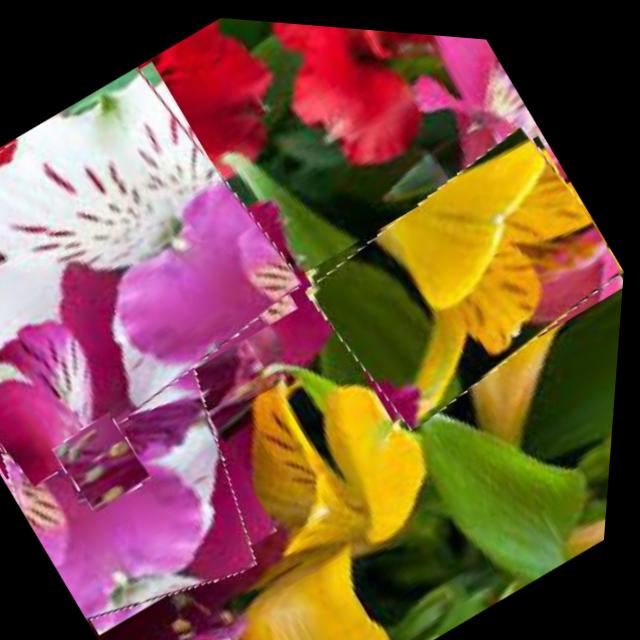Flower: (0, 40, 332, 508), (0, 227, 323, 640), (290, 102, 635, 440), (55, 404, 163, 515)
